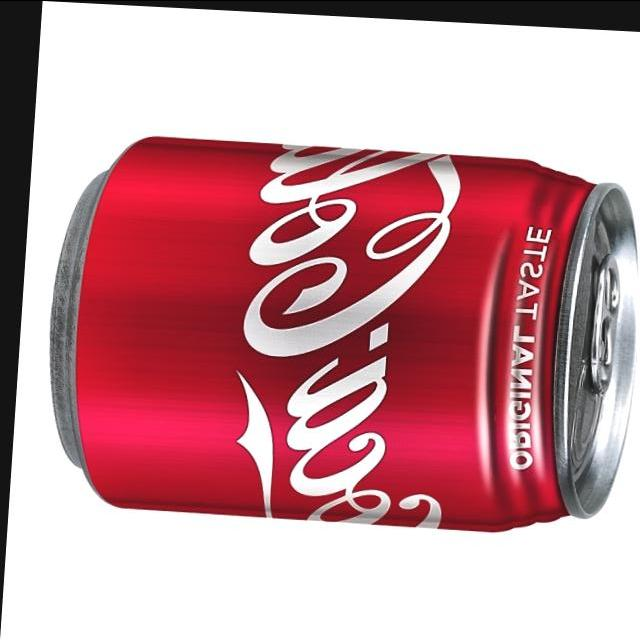Aluminum Can: (33, 119, 640, 536)
